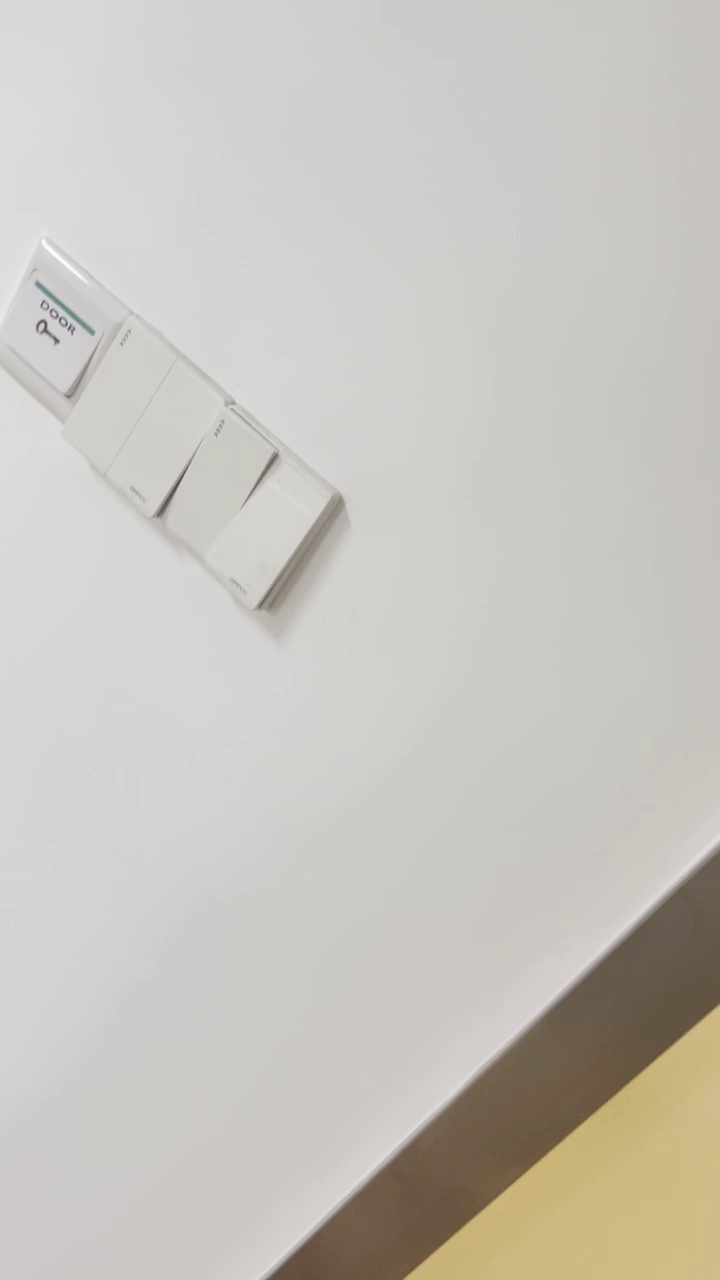button: (159, 400, 346, 621), (63, 318, 235, 526)
